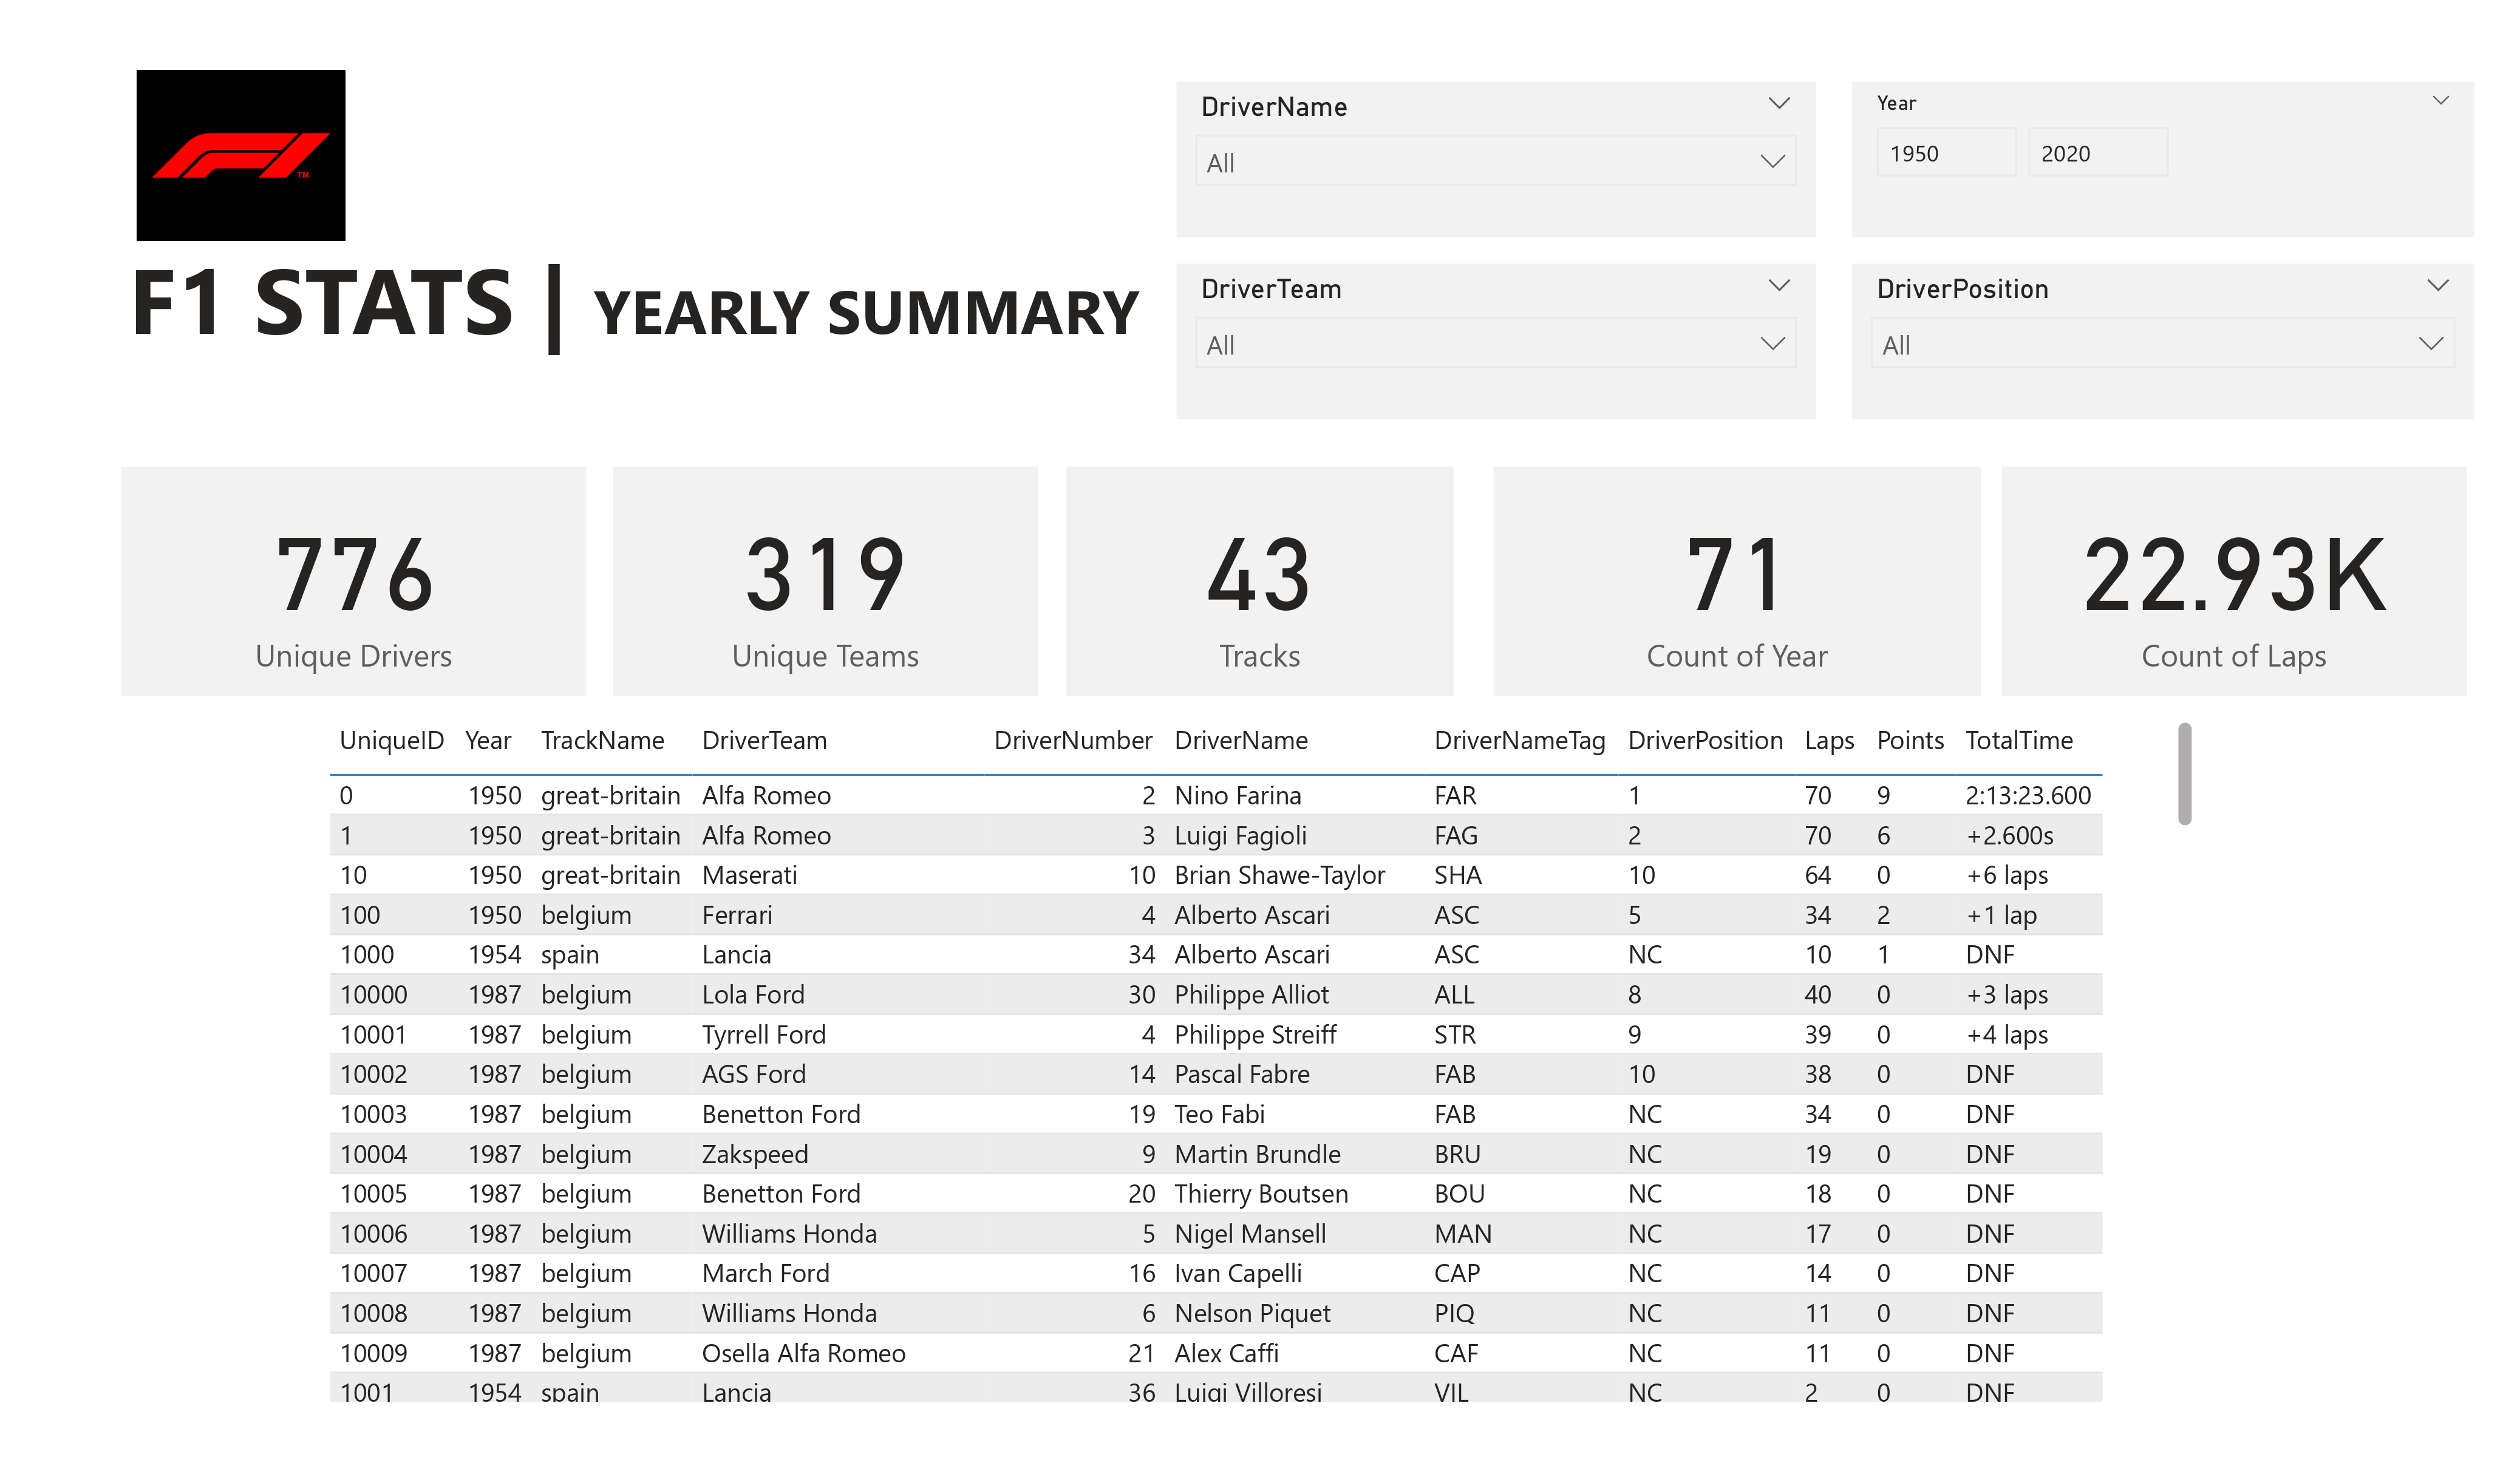

This screenshot's page, from the dashboard's own definition file:
{"tool":"powerbi","page":{"name":"Data Grid","canvas":[1280,720],"ordinal":1},"visuals":[{"type":"slicer","fields":{"Values":["rprt vw RaceResults.Year"]},"box":[951.6,19.3,328,82],"z":0},{"type":"slicer","fields":{"Values":["rprt vw RaceResults.DriverTeam"]},"box":[595.8,114.6,337.7,82],"z":1000},{"type":"slicer","fields":{"Values":["rprt vw RaceResults.DriverName"]},"box":[595.8,19.3,337.7,82],"z":2000},{"type":"card","fields":{"Values":["rprt vw RaceResults.DriverName"]},"box":[39.8,222.3,245.6,120.8],"z":3000},{"type":"card","fields":{"Values":["rprt vw RaceResults.DriverTeam"]},"box":[299.1,222.3,223.7,120.8],"z":4000},{"type":"card","fields":{"Values":["rprt vw RaceResults.TrackName"]},"box":[537.9,222.3,204.5,120.8],"z":5000},{"type":"card","fields":{"Values":["rprt vw RaceResults.Year"]},"box":[763,222.3,256.6,120.8],"z":6000},{"type":"card","fields":{"Values":["rprt vw RaceResults.Laps"]},"box":[1030.5,222.3,245.6,120.8],"z":7000},{"type":"slicer","fields":{"Values":["rprt vw RaceResults.DriverPosition"]},"box":[951.6,114.6,328,82],"z":8000},{"type":"textbox","box":[38.6,95.3,557.2,101.3],"z":9000},{"type":"image","box":[43.4,0,119.4,114.6],"z":10000},{"type":"tableEx","fields":{"Values":["rprt vw RaceResults.UniqueID","rprt vw RaceResults.Year","rprt vw RaceResults.TrackName","rprt vw RaceResults.DriverTeam","rprt vw RaceResults.DriverNumber","rprt vw RaceResults.DriverName","rprt vw RaceResults.DriverNameTag","rprt vw RaceResults.DriverPosition","rprt vw RaceResults.Laps","rprt vw RaceResults.Points","rprt vw RaceResults.TotalTime"]},"box":[143.5,351,993.8,369],"z":11000}]}

Visuals, with their boxes on the page's 1280x720 design canvas (x1, y1, x2, y2). These are canvas units, not pixel positions in the 2520x1457 screenshot, which may show the page scaled, cropped or inside an application window:
slicer - rprt vw RaceResults.Year: (x1=952, y1=19, x2=1280, y2=101)
slicer - rprt vw RaceResults.DriverTeam: (x1=596, y1=115, x2=934, y2=197)
slicer - rprt vw RaceResults.DriverName: (x1=596, y1=19, x2=934, y2=101)
card - rprt vw RaceResults.DriverName: (x1=40, y1=222, x2=285, y2=343)
card - rprt vw RaceResults.DriverTeam: (x1=299, y1=222, x2=523, y2=343)
card - rprt vw RaceResults.TrackName: (x1=538, y1=222, x2=742, y2=343)
card - rprt vw RaceResults.Year: (x1=763, y1=222, x2=1020, y2=343)
card - rprt vw RaceResults.Laps: (x1=1030, y1=222, x2=1276, y2=343)
slicer - rprt vw RaceResults.DriverPosition: (x1=952, y1=115, x2=1280, y2=197)
textbox: (x1=39, y1=95, x2=596, y2=197)
image: (x1=43, y1=0, x2=163, y2=115)
tableEx - rprt vw RaceResults.UniqueID x rprt vw RaceResults.Year: (x1=144, y1=351, x2=1137, y2=720)
